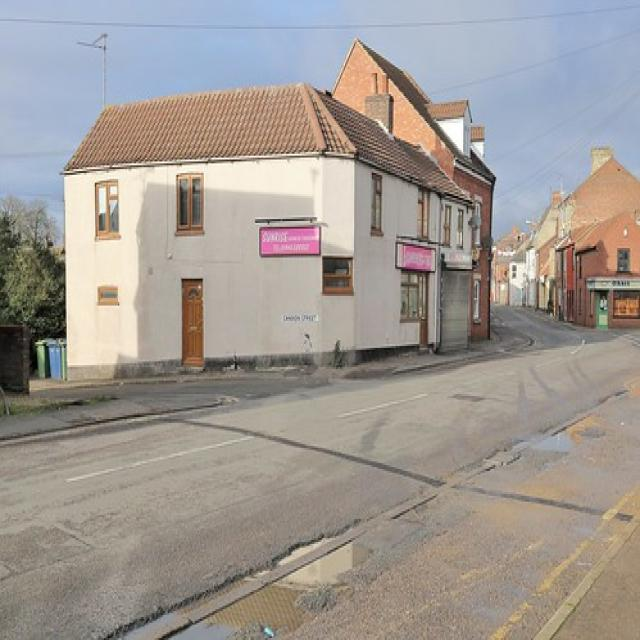building: (60, 34, 502, 378)
